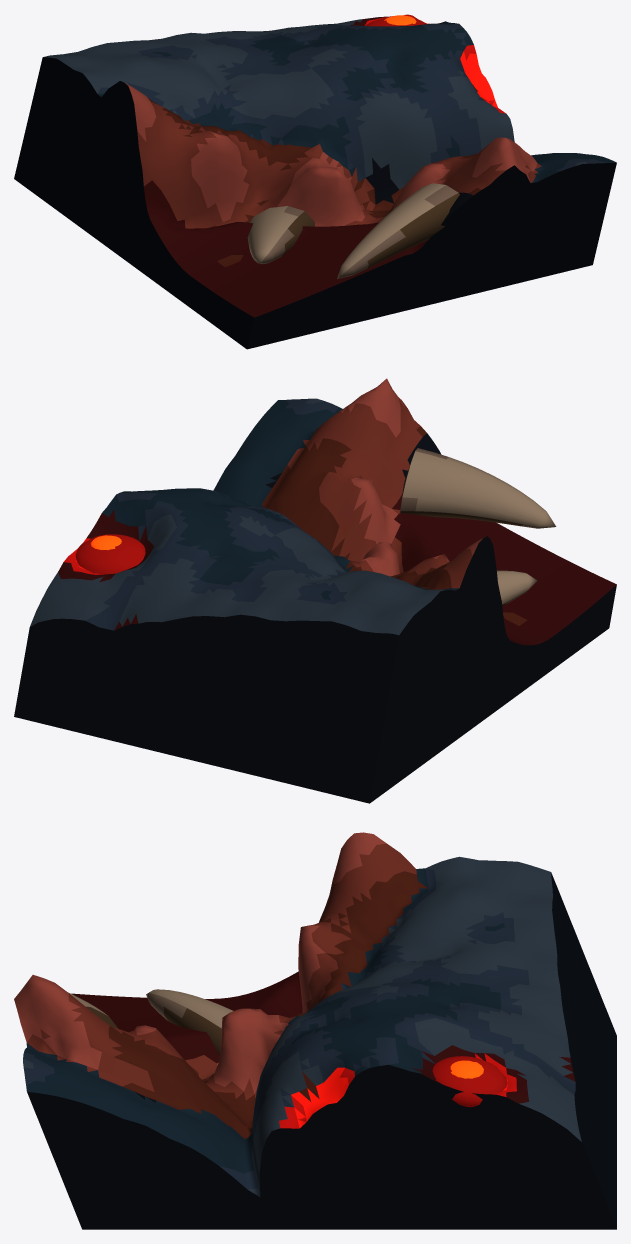
The model's file is gyges_maw_243.glb.
3 views of the same model, one above another, from view 1: azimuth 30°, elevation 25°; view 2: azimuth 150°, elevation 25°; view 3: azimuth 270°, elevation 25° (orthographic). The views are drawn at different scales.
Visible parts, largest first — view 1: gyges_maw_243; view 2: gyges_maw_243; view 3: gyges_maw_243.
Part boxes in pixels (bbox=[...]): gyges_maw_243: bbox=[14, 14, 616, 349]; gyges_maw_243: bbox=[14, 378, 616, 803]; gyges_maw_243: bbox=[14, 832, 616, 1229].
Bounding box in the file's own units: 24.2 × 11.75 × 31.57.
